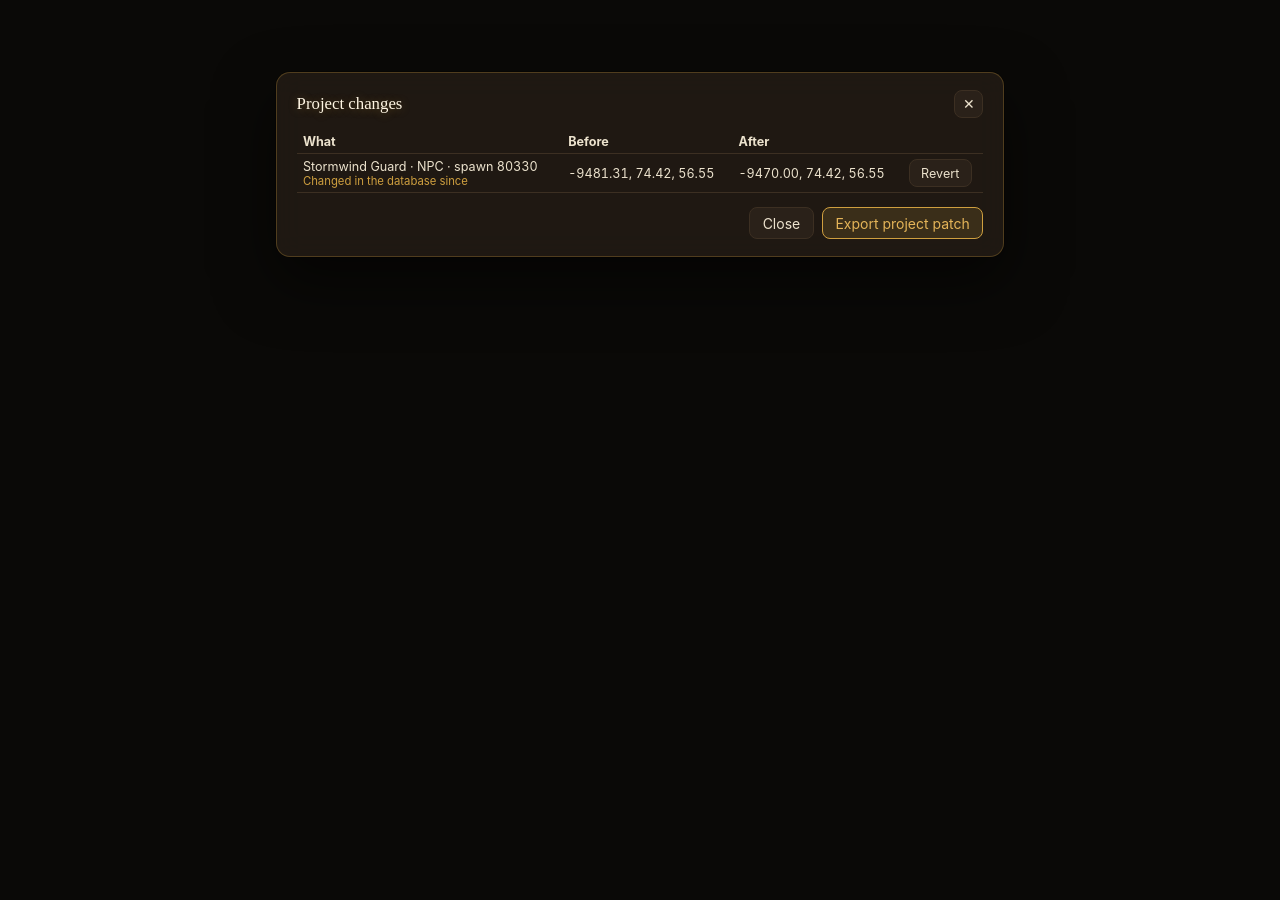
Test: the Project changes modal › reverts one change and hands the new layer back
Click the button with aria-label "Revert Stormwind Guard". click: [940, 173]
box: x1=909 y1=159 x2=972 y2=187
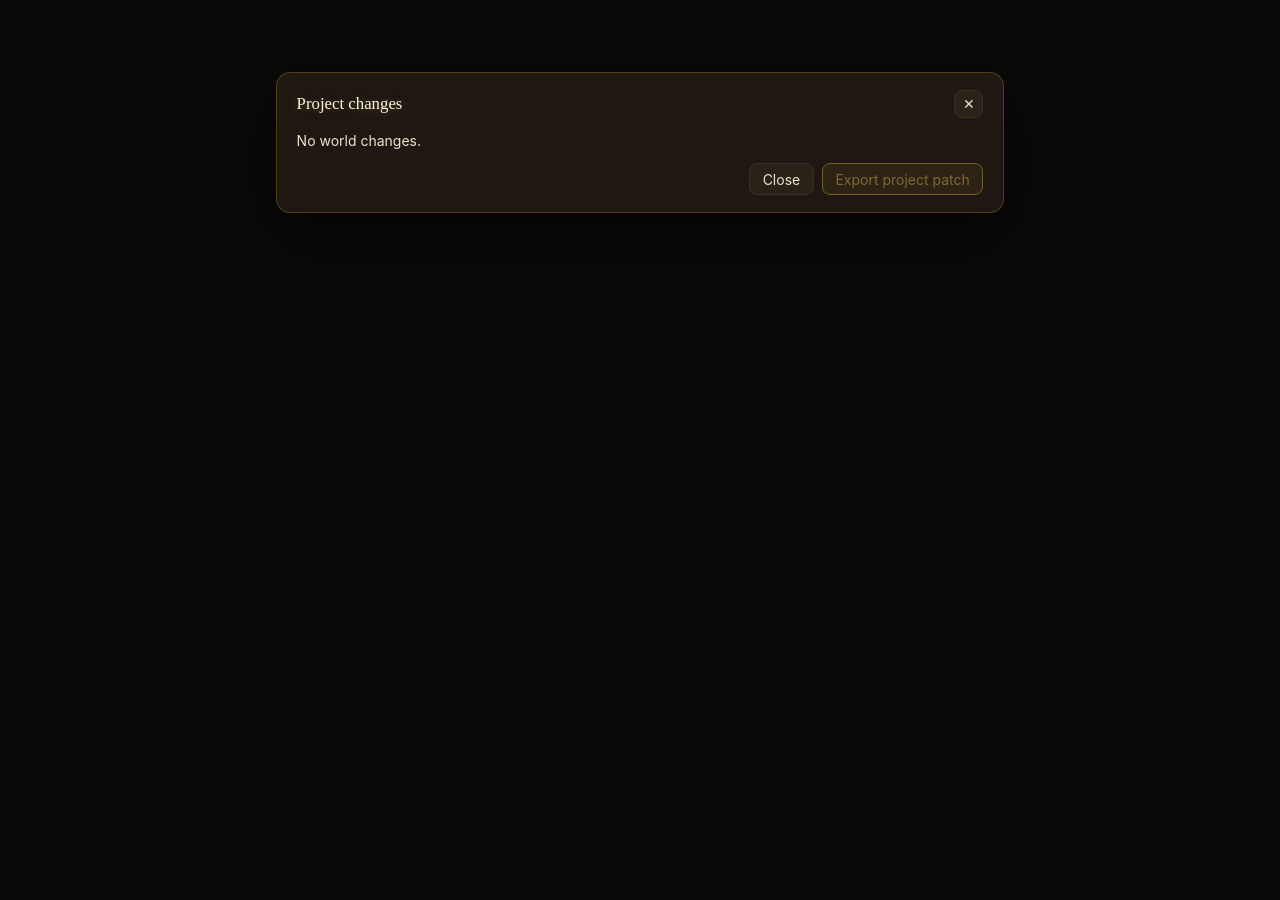
expect the text "No world changes." is shown: met, box x1=297 y1=132 x2=421 y2=149
